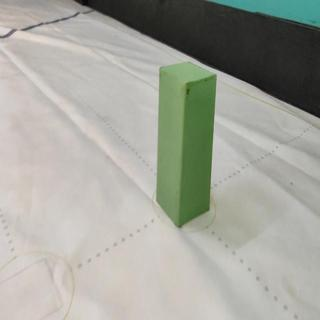greenbox: (157, 60, 217, 228)
